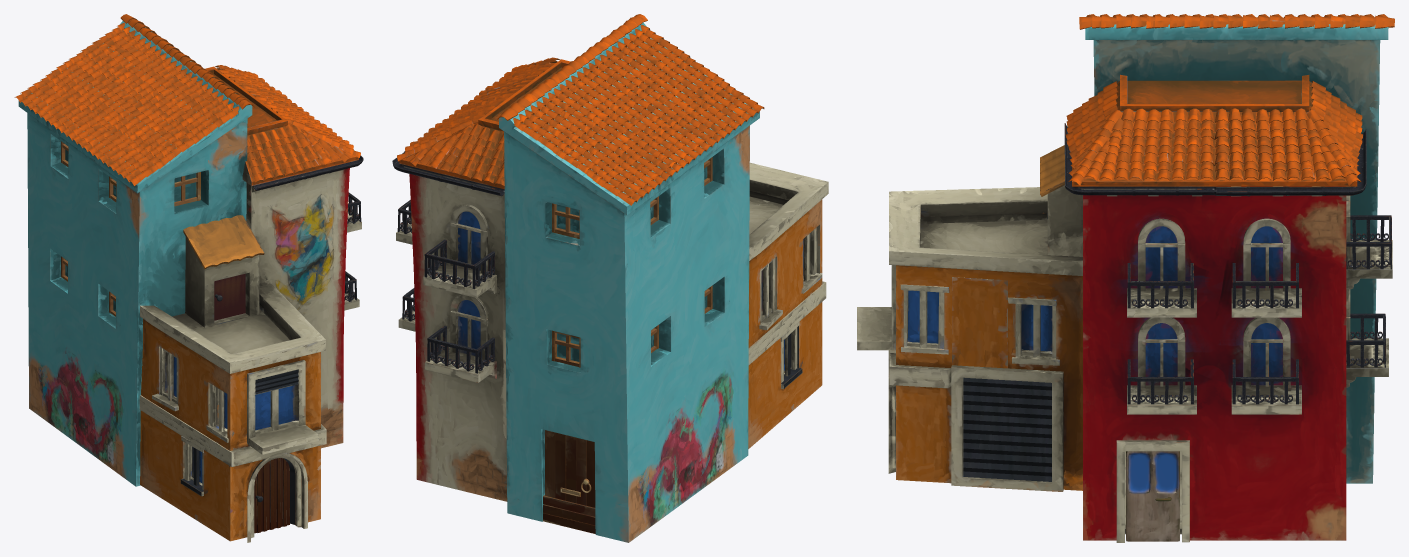
File: house_oil_painted.fbx
The picture shows the model from 3 angles, left to right: view 1: azimuth 30°, elevation 25°; view 2: azimuth 150°, elevation 25°; view 3: azimuth 270°, elevation 25°; orthographic projection. The views are drawn at different scales.
Visible parts, largest first — view 1: house_oilpainted.001, house_oilpainted.002; view 2: house_oilpainted.001, house_oilpainted.002; view 3: house_oilpainted.001, house_oilpainted.002.
Part boxes in pixels (x1,y1,x2,y2): house_oilpainted.001: (18,21,363,542); house_oilpainted.002: (14,14,360,185); house_oilpainted.001: (392,22,828,542); house_oilpainted.002: (397,14,764,205); house_oilpainted.001: (857,24,1392,542); house_oilpainted.002: (1066,14,1394,185).
Bounding box in the file's own units: 377 × 538 × 560.
